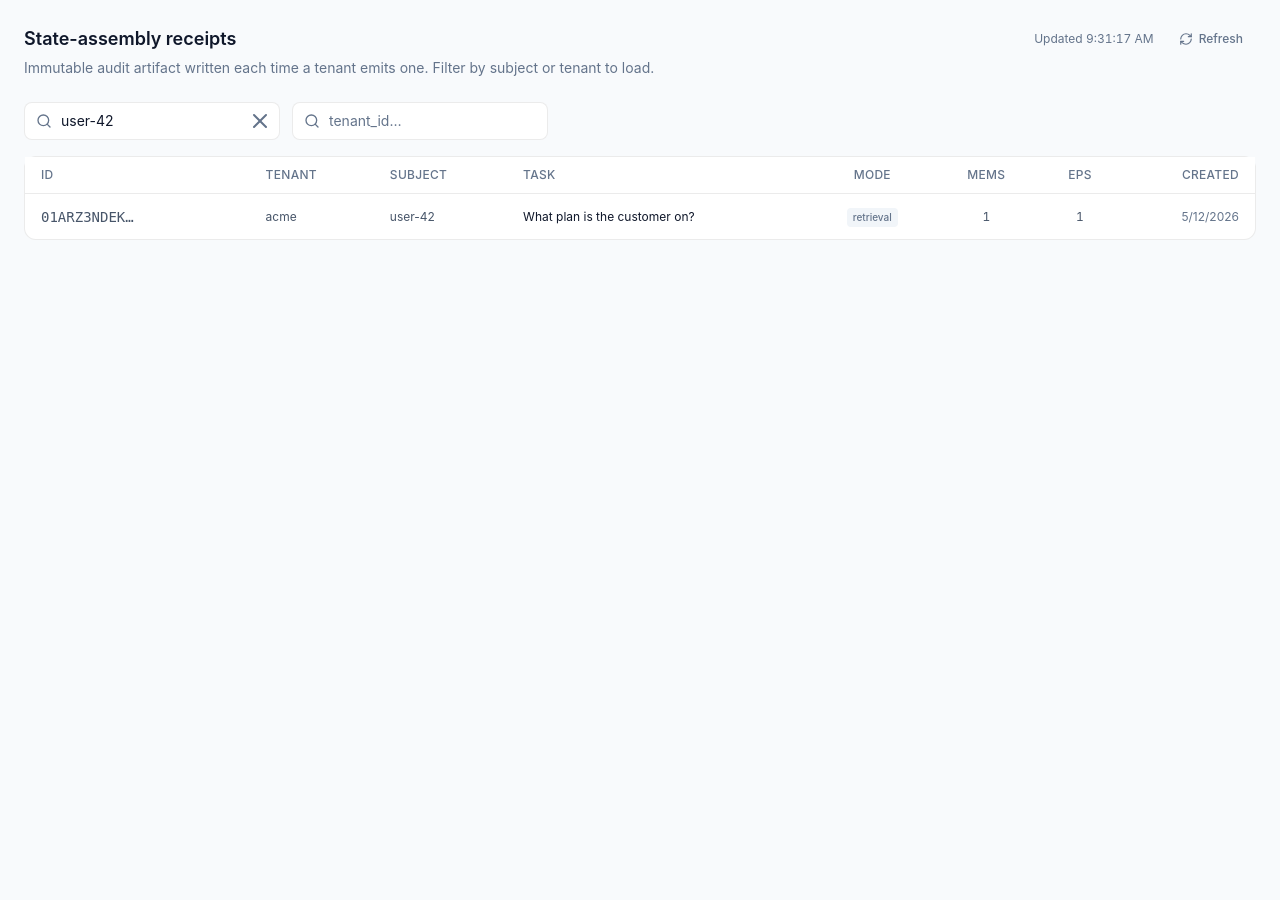
Scenario: ReceiptsPage — replay button (v0.9 #159 / #160) › surfaces a 422 error inline instead of crashing
Click the text "What plan is the customer on" at [640, 216], box [25, 194, 1255, 239]
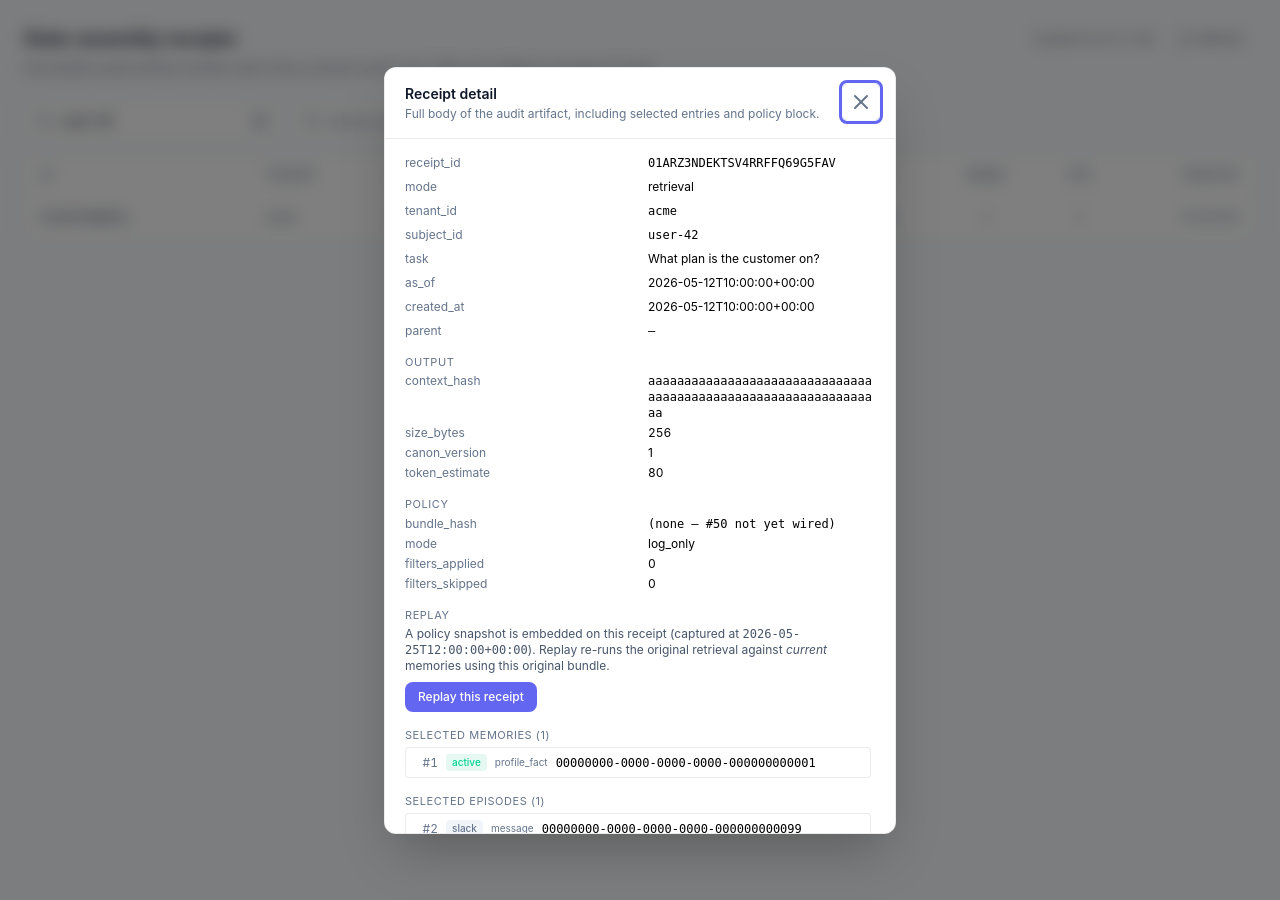
Click the button "Replay this receipt" at [471, 698], box [405, 682, 537, 712]
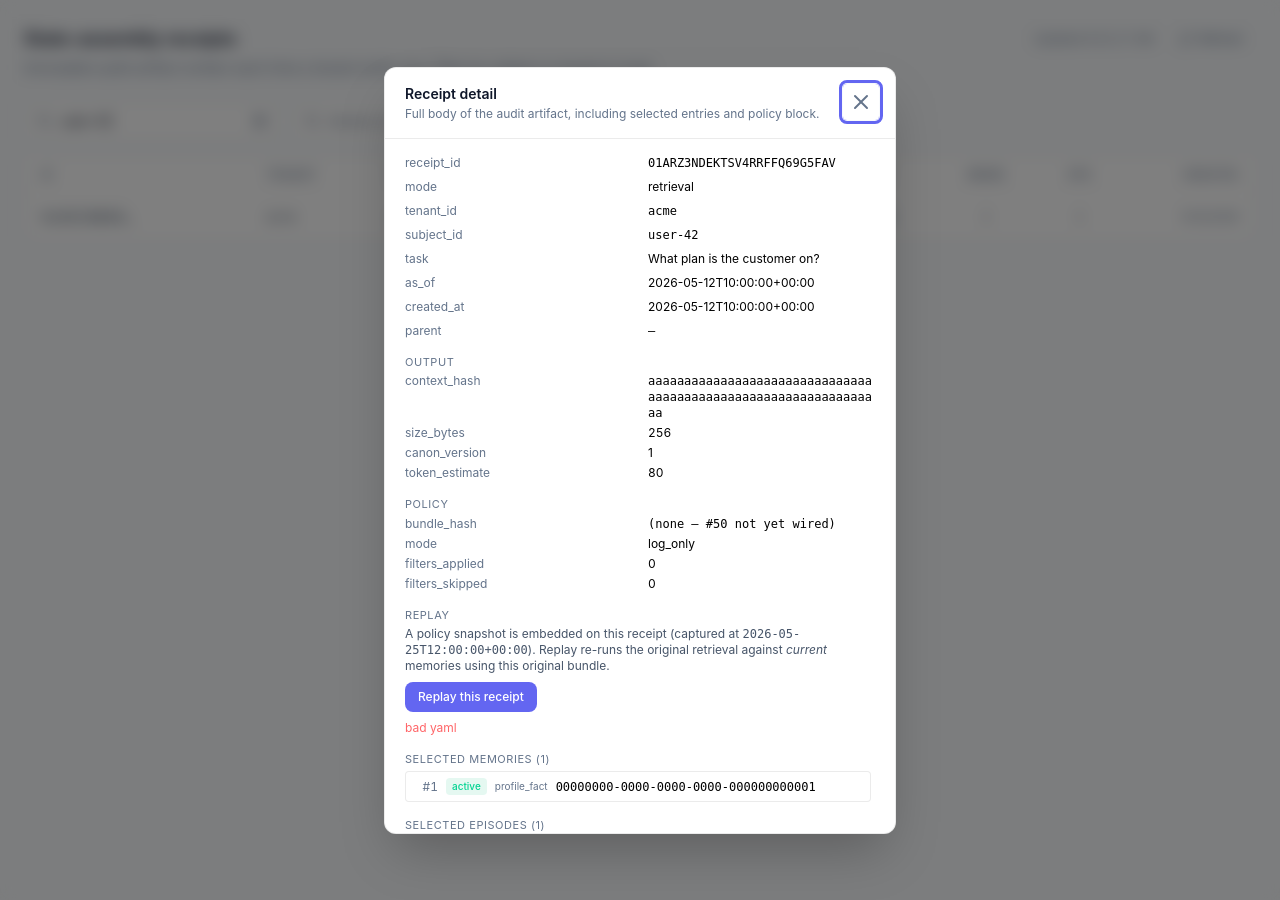
expect the text "bad yaml" is shown: met, box [405, 720, 457, 736]
